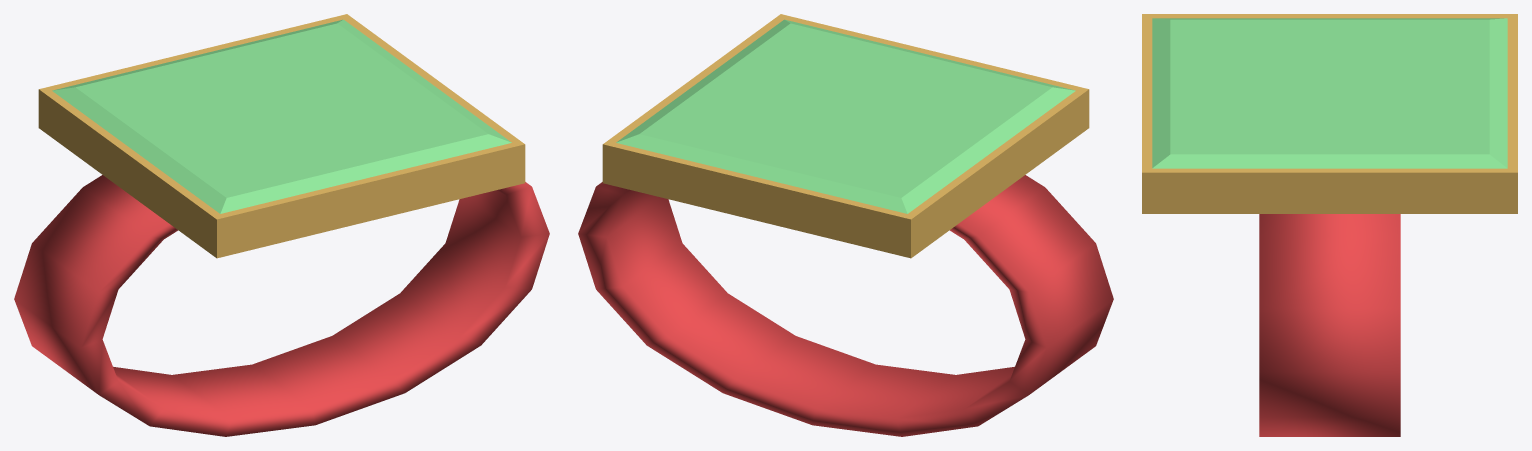
The model's file is watch.gltf.
3 views of the same model, side by side, from view 1: azimuth 30°, elevation 25°; view 2: azimuth 150°, elevation 25°; view 3: azimuth 270°, elevation 25° (orthographic). The views are drawn at different scales.
Visible parts, largest first — view 1: Circle.001; view 2: Circle.001; view 3: Circle.001.
Part boxes in pixels (<box>): Circle.001: <box>14,14,549,436</box>; Circle.001: <box>578,14,1113,436</box>; Circle.001: <box>1142,14,1517,436</box>.
Size of the model in its own units: 1.23 by 0.7264 by 0.808.
